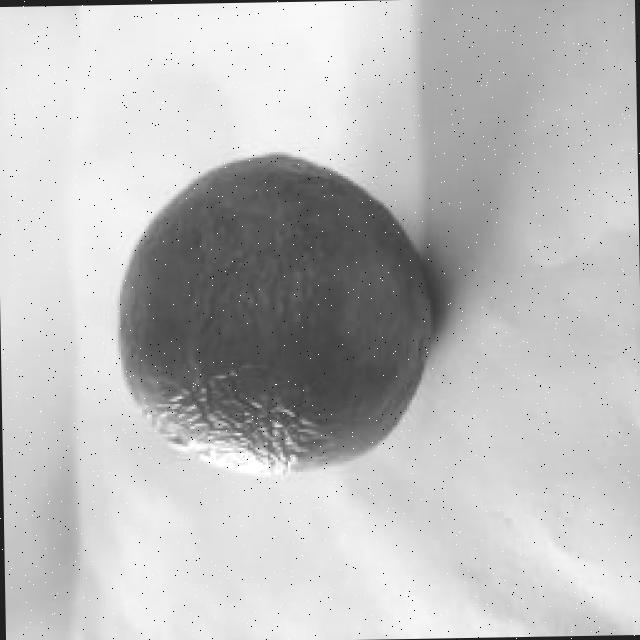overripe: (110, 144, 438, 482)
